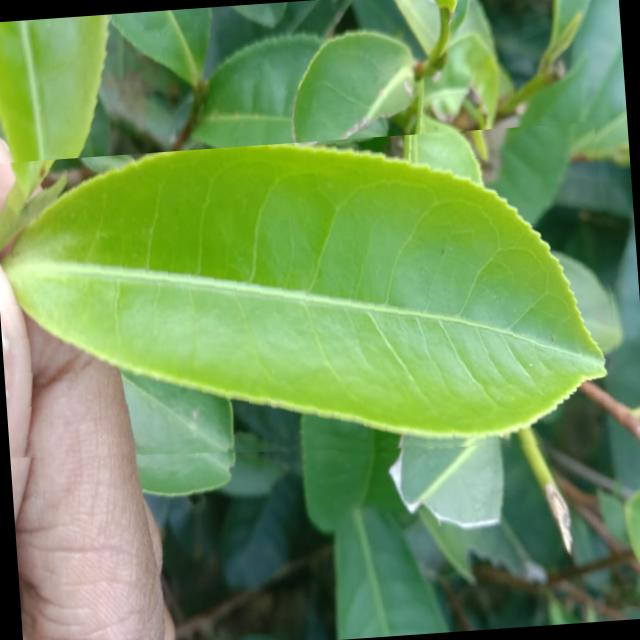Category B(2-4 days): (0, 121, 624, 485)
